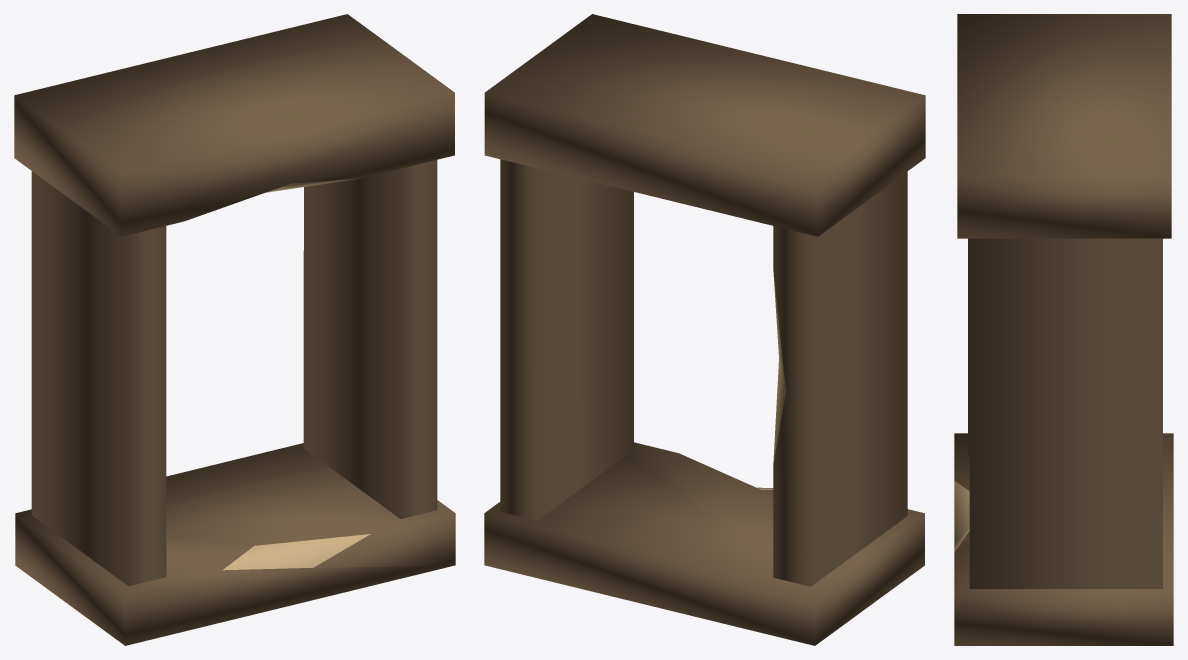
The model's file is rpgpp_ag_window_04a.fbx.
The picture shows the model from 3 angles, left to right: view 1: azimuth 30°, elevation 25°; view 2: azimuth 150°, elevation 25°; view 3: azimuth 270°, elevation 25°; orthographic projection.
Visible parts, largest first — view 1: rpgpp_ag_window_04a; view 2: rpgpp_ag_window_04a; view 3: rpgpp_ag_window_04a.
Part boxes in pixels (bbox=[...]): rpgpp_ag_window_04a: bbox=[14, 14, 455, 645]; rpgpp_ag_window_04a: bbox=[484, 14, 925, 645]; rpgpp_ag_window_04a: bbox=[954, 14, 1173, 645].
Bounding box in the file's own units: 0.9879 × 1.34 × 0.5651.
